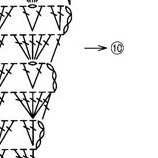enseble_chain: (28, 86, 61, 127), (38, 29, 69, 69), (22, 3, 53, 37), (24, 61, 52, 93), (0, 59, 22, 93), (41, 60, 62, 93), (23, 119, 44, 148), (0, 3, 20, 33), (0, 116, 19, 147), (26, 32, 46, 61), (83, 39, 110, 57), (59, 5, 75, 31), (25, 91, 41, 117), (35, 120, 47, 139), (110, 41, 123, 56)
